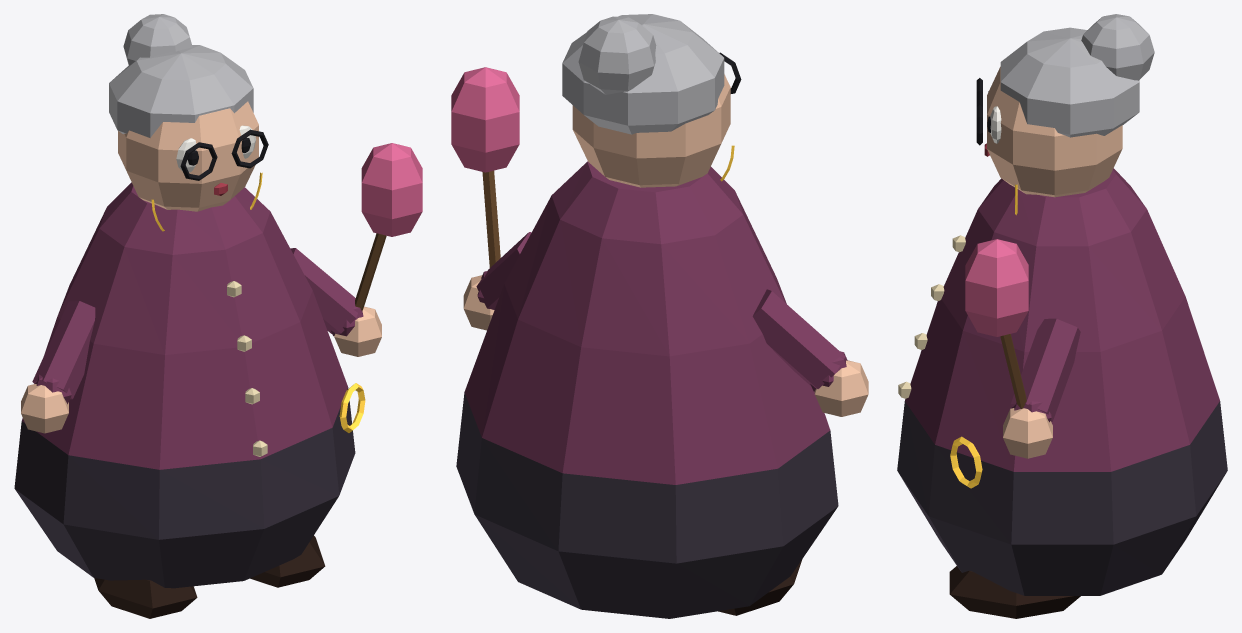
File: npc_sigilo.glb
3 renders of one model, left to right at view 1: azimuth 30°, elevation 25°; view 2: azimuth 150°, elevation 25°; view 3: azimuth 270°, elevation 25°, orthographic. The views are drawn at different scales.
Parts seen in each view (by area): view 1: body_sigilo_cardigan, body_sigilo_skirt, head_hair_grey, head_skin_rosada, arms_sigilo_cardigan, props_duster_feathers, legs_sigilo_shoes, arms_skin_rosada, head_black, props_duster_stick, body_gold, face_white; view 2: body_sigilo_cardigan, body_sigilo_skirt, head_hair_grey, head_skin_rosada, props_duster_feathers, arms_sigilo_cardigan, arms_skin_rosada, props_duster_stick, legs_sigilo_shoes; view 3: body_sigilo_cardigan, body_sigilo_skirt, head_hair_grey, head_skin_rosada, props_duster_feathers, arms_sigilo_cardigan, legs_sigilo_shoes, arms_skin_rosada, props_duster_stick, body_gold, head_black.
Boxes of the visible parts, x1,y1,x2,y2 form: body_sigilo_cardigan: [22, 182, 347, 469]; body_sigilo_skirt: [14, 387, 355, 588]; head_hair_grey: [109, 14, 253, 137]; head_skin_rosada: [118, 101, 258, 211]; arms_sigilo_cardigan: [32, 248, 363, 404]; props_duster_feathers: [361, 143, 422, 236]; legs_sigilo_shoes: [94, 535, 325, 618]; arms_skin_rosada: [21, 306, 381, 433]; head_black: [180, 129, 268, 180]; props_duster_stick: [355, 233, 386, 310]; body_gold: [339, 383, 365, 432]; face_white: [176, 125, 256, 172]; body_sigilo_cardigan: [464, 161, 830, 484]; body_sigilo_skirt: [456, 392, 838, 618]; head_hair_grey: [562, 14, 724, 134]; head_skin_rosada: [572, 74, 730, 187]; props_duster_feathers: [451, 67, 519, 172]; arms_sigilo_cardigan: [476, 232, 847, 391]; arms_skin_rosada: [463, 275, 868, 416]; props_duster_stick: [482, 170, 500, 267]; legs_sigilo_shoes: [718, 559, 802, 615]; body_sigilo_cardigan: [905, 168, 1219, 471]; body_sigilo_skirt: [897, 401, 1227, 595]; head_hair_grey: [1000, 14, 1154, 137]; head_skin_rosada: [987, 66, 1122, 197]; props_duster_feathers: [965, 239, 1028, 336]; arms_sigilo_cardigan: [1010, 318, 1080, 422]; legs_sigilo_shoes: [949, 566, 1080, 618]; arms_skin_rosada: [1003, 408, 1052, 458]; props_duster_stick: [1000, 334, 1026, 408]; body_gold: [950, 436, 982, 488]; head_black: [976, 78, 982, 145].
Size of the model in its own units: 1.21 by 1.61 by 0.86.
